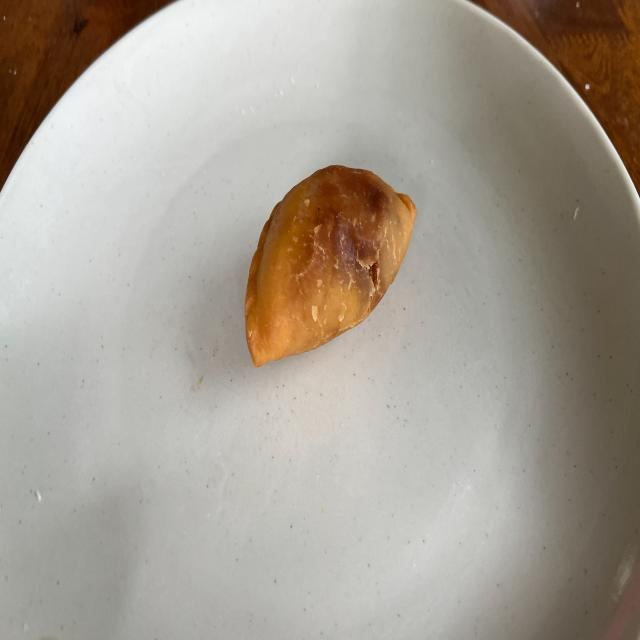karipap: (245, 167, 416, 367)
